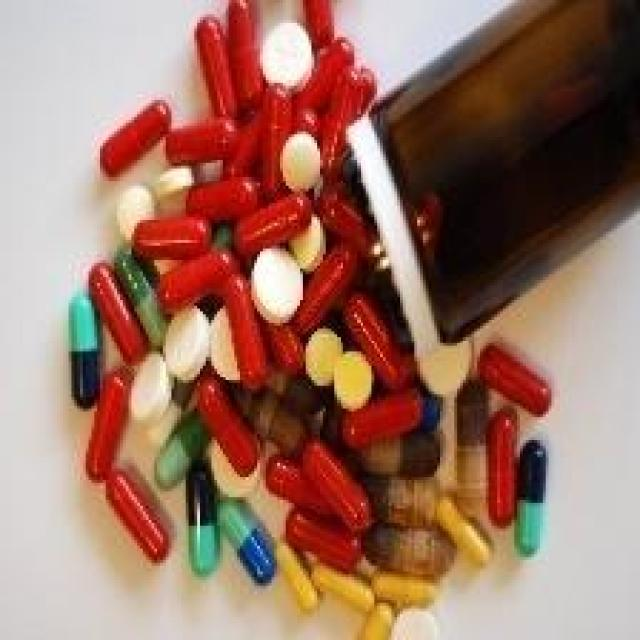Medicine: (58, 0, 551, 625)
